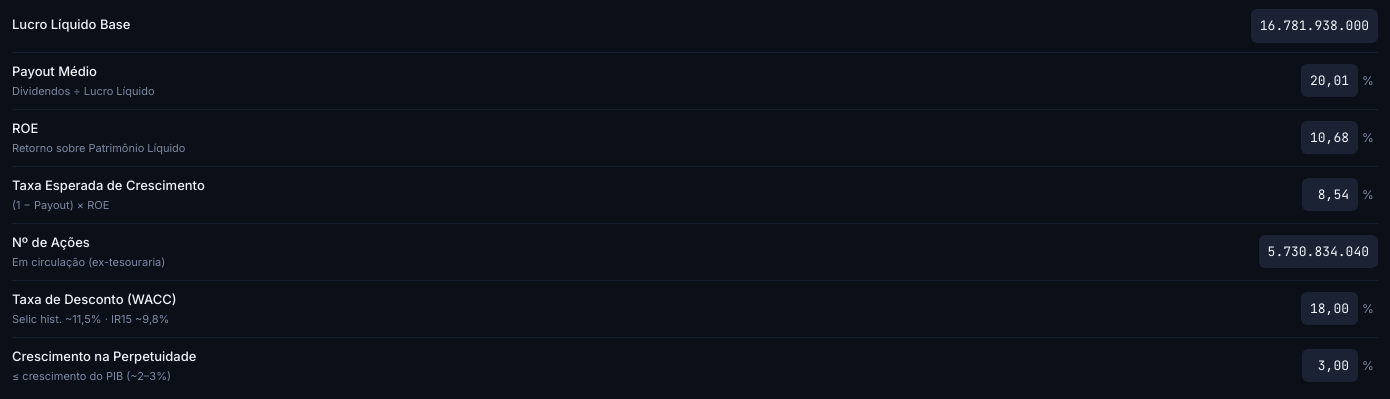
Test case: DCFInputPanel — o valor formatado volta a mandar no blur › reformata ao sair do campo
Clear the field showing "10,68" in the row of "Retorno sobre Patrimônio Líquido": [1330, 138] box [1301, 121, 1358, 154]
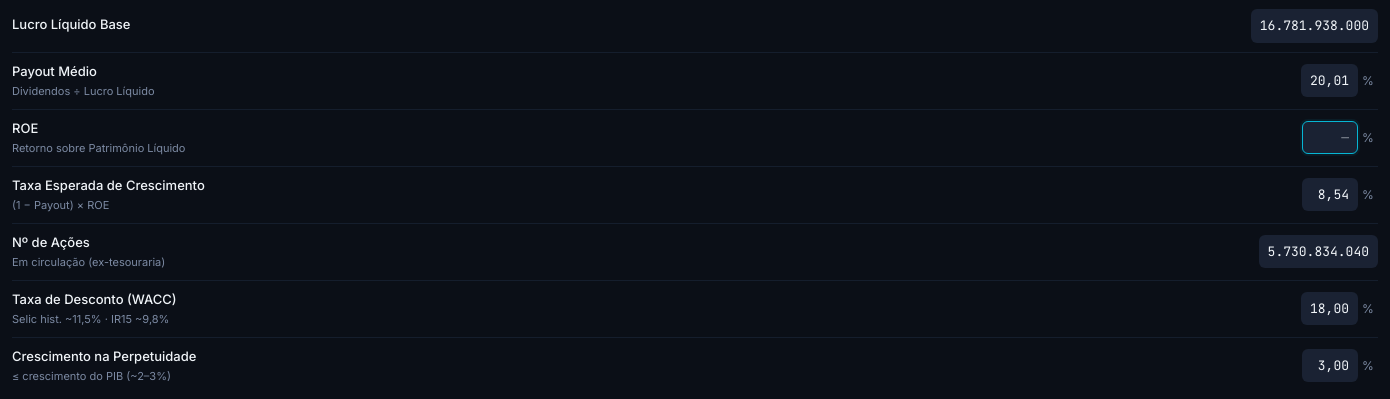
In the field showing "10,68": [1330, 138] box [1302, 121, 1358, 154], type "12,1"
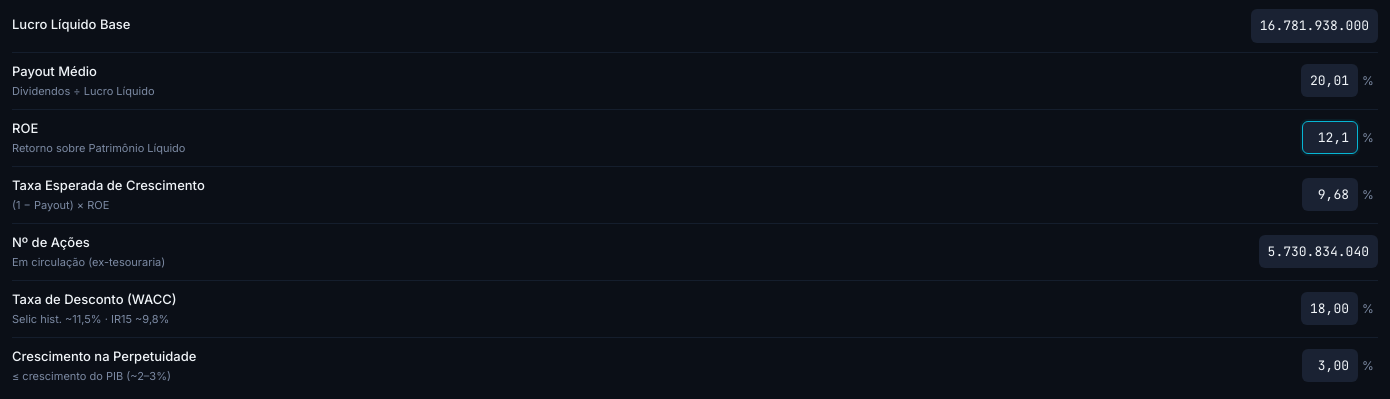
Leave the field showing "10,68" in the row of "Retorno sobre Patrimônio Líquido", box [1302, 121, 1358, 154]
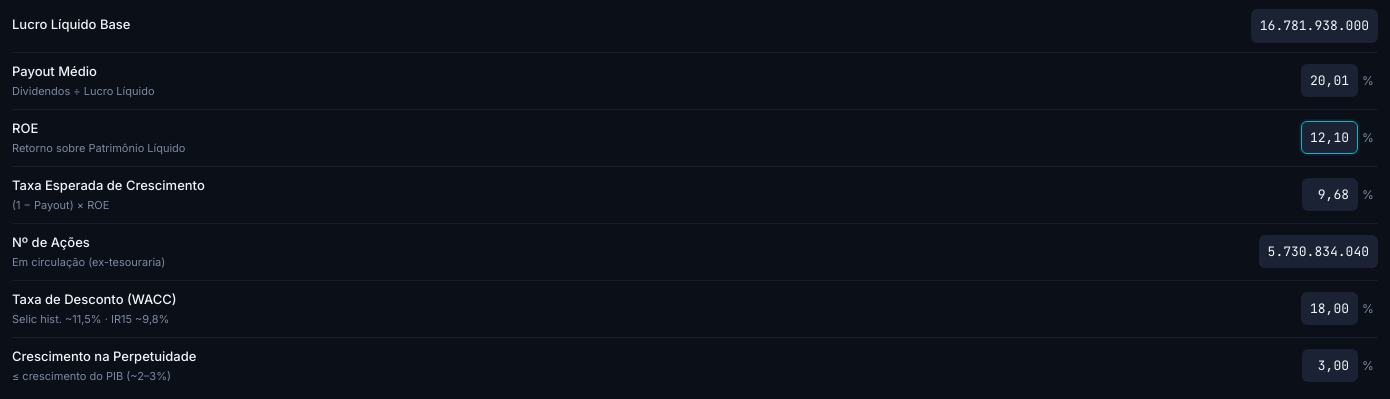
expect the field showing "10,68" in the row of "Retorno sobre Patrimônio Líquido" holds "12,10": met, box [1301, 121, 1358, 154]
